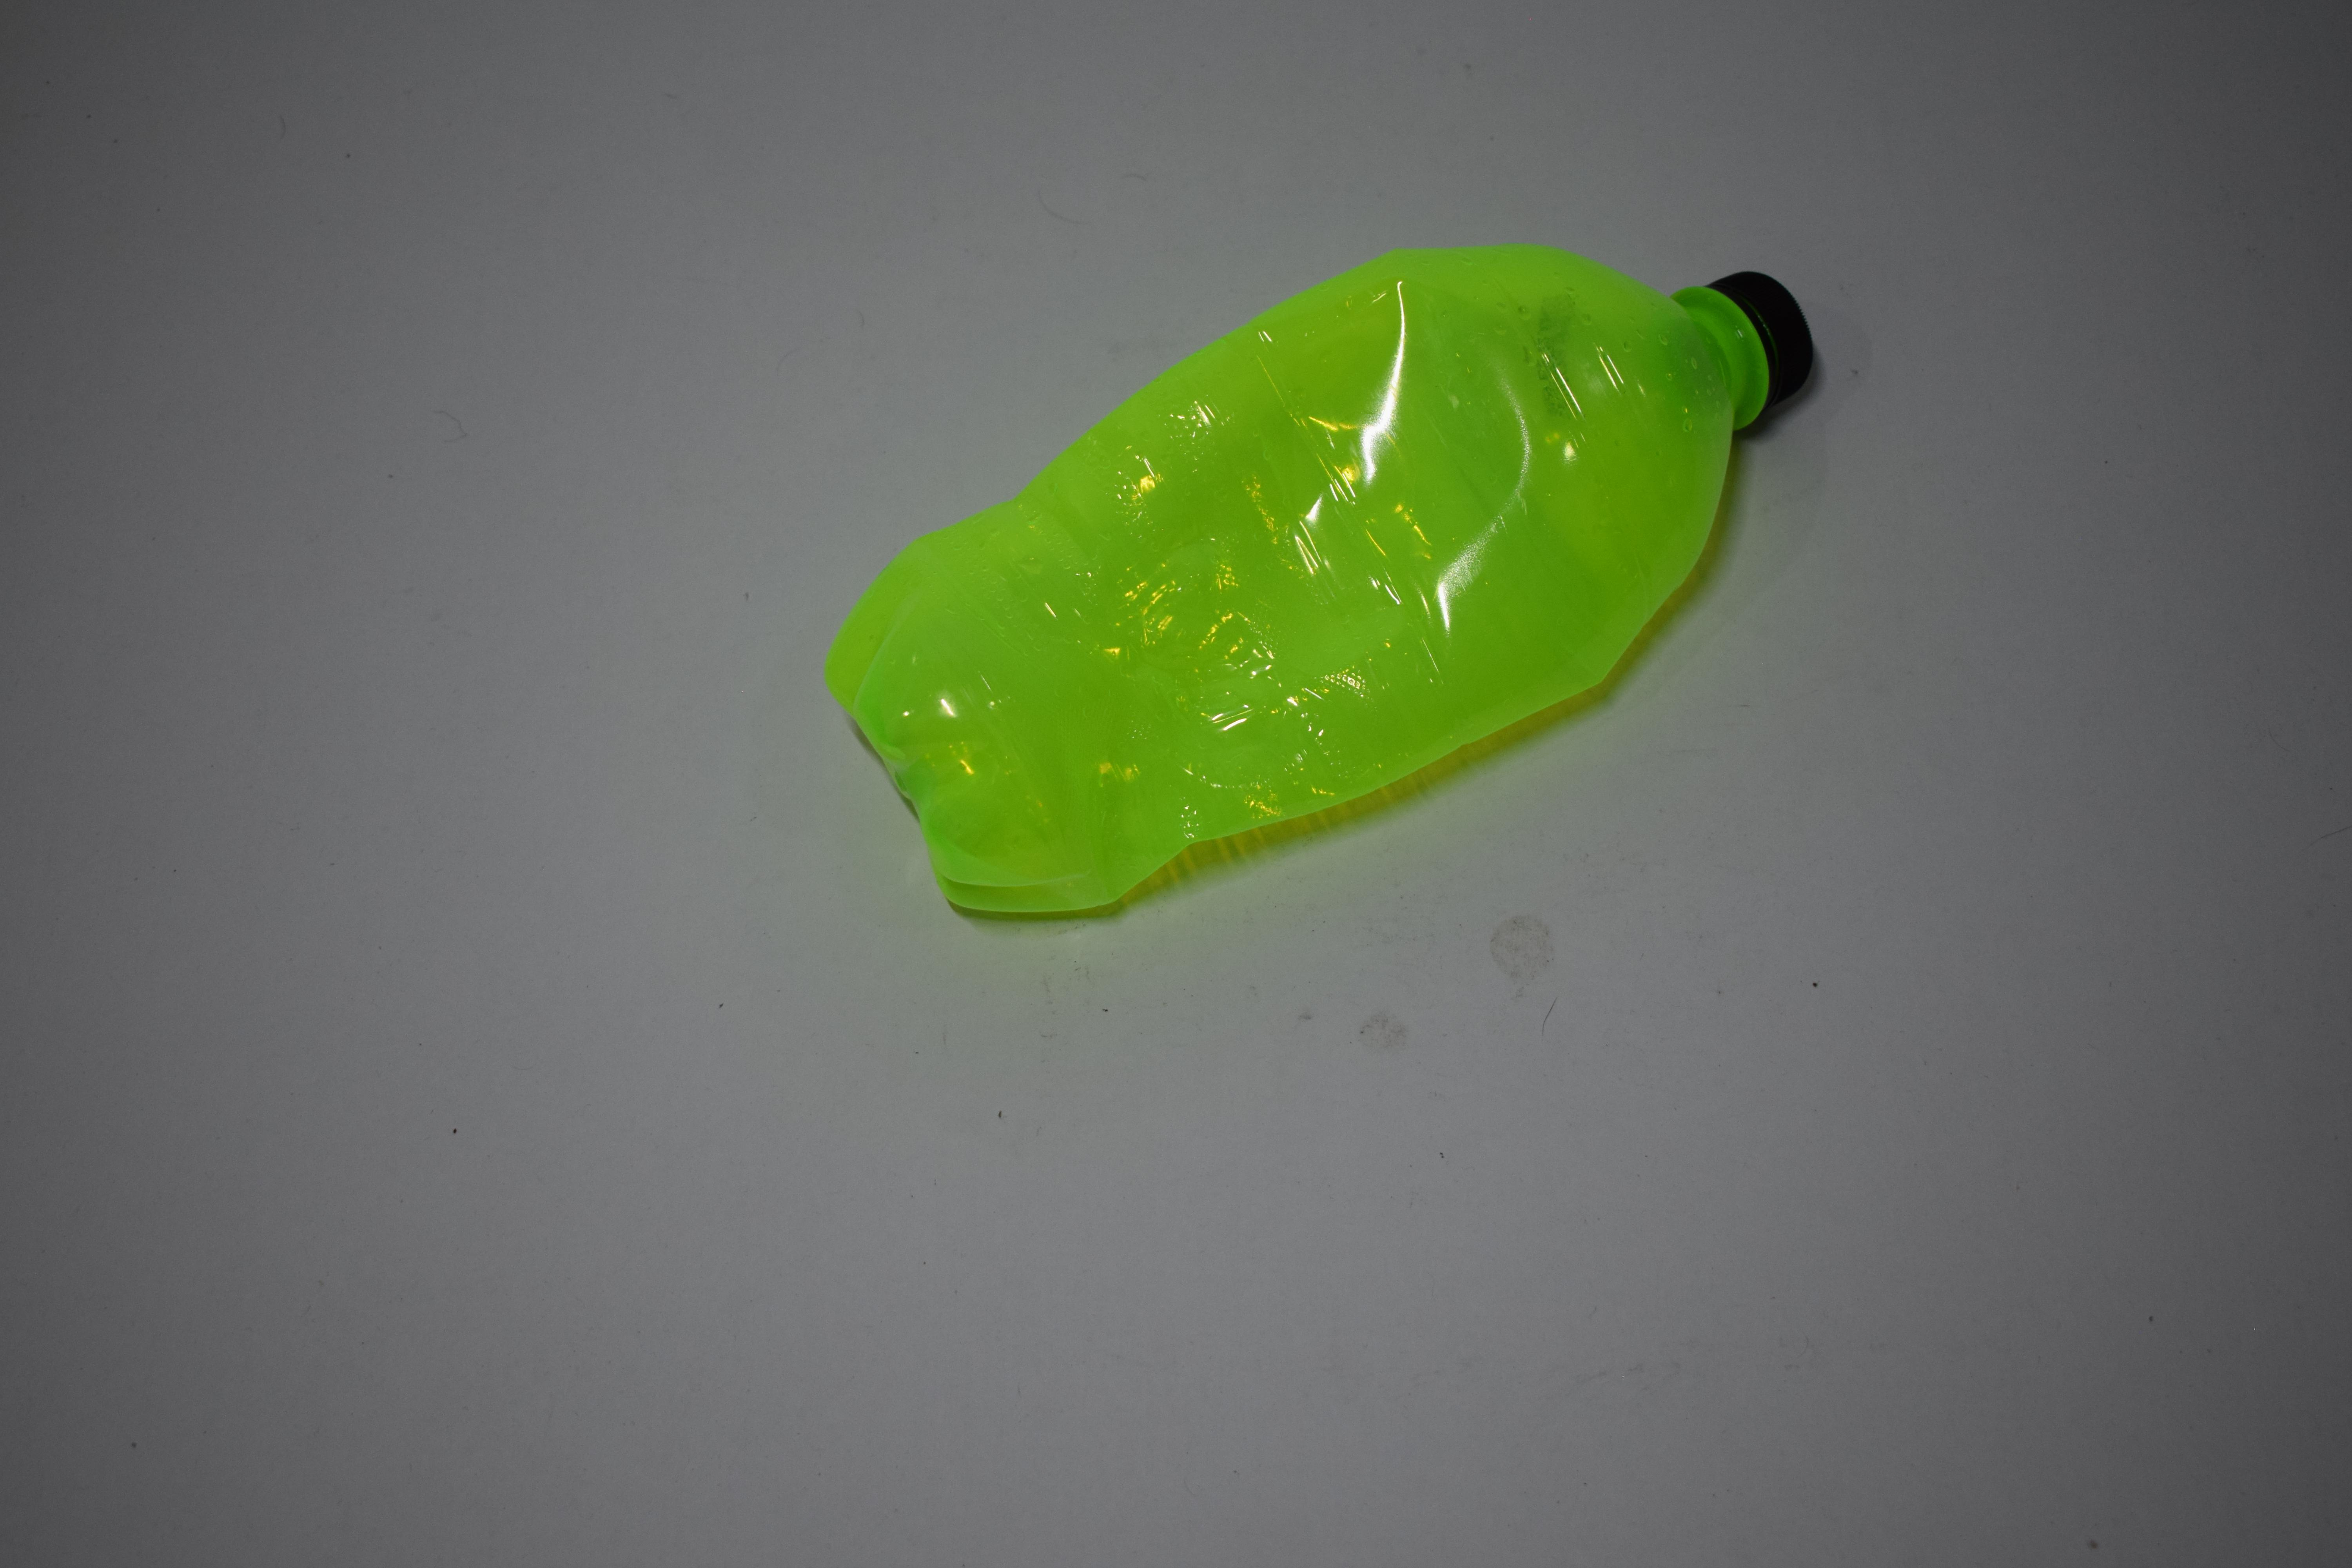bottle: (0, 231, 647, 921)
